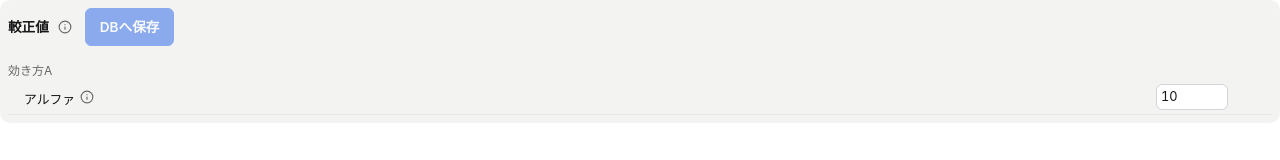
Test: TuningPanel › 保存中は押せない
The image size is (1280, 160).
Expected: the button "DBへ保存" is shown, [85,8,174,46]
Replace the text in the number field named "アルファ" with "12" at (1192, 97), box [1156,84,1228,110]
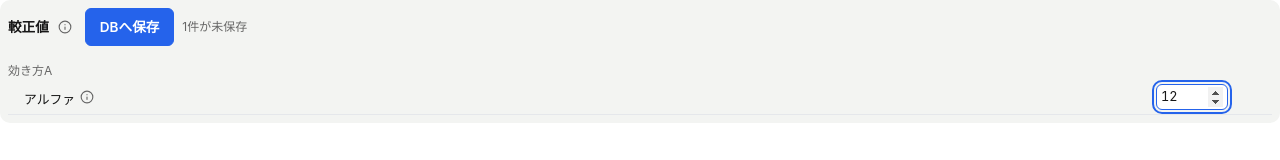
Click the button "DBへ保存" at (130, 27), box [85,8,174,46]
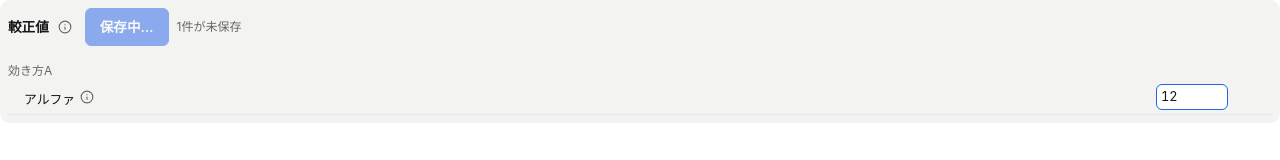
Now the button "保存中…" is disabled, box [85,8,169,46]
